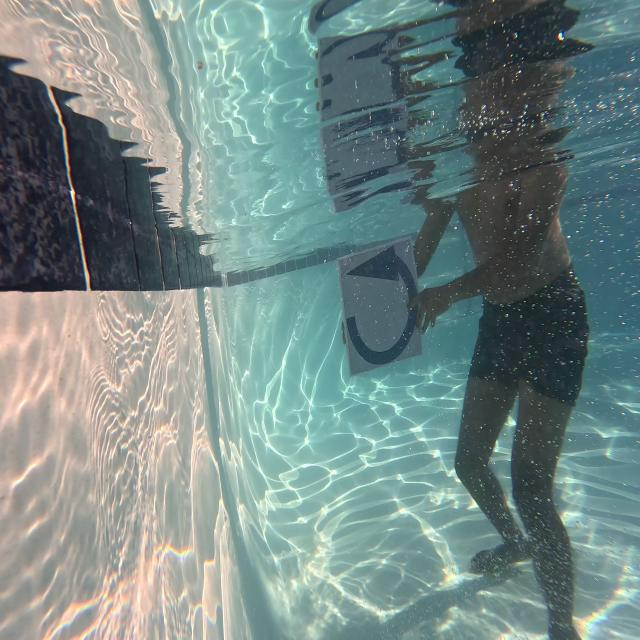blue_side: (335, 243, 428, 384)
